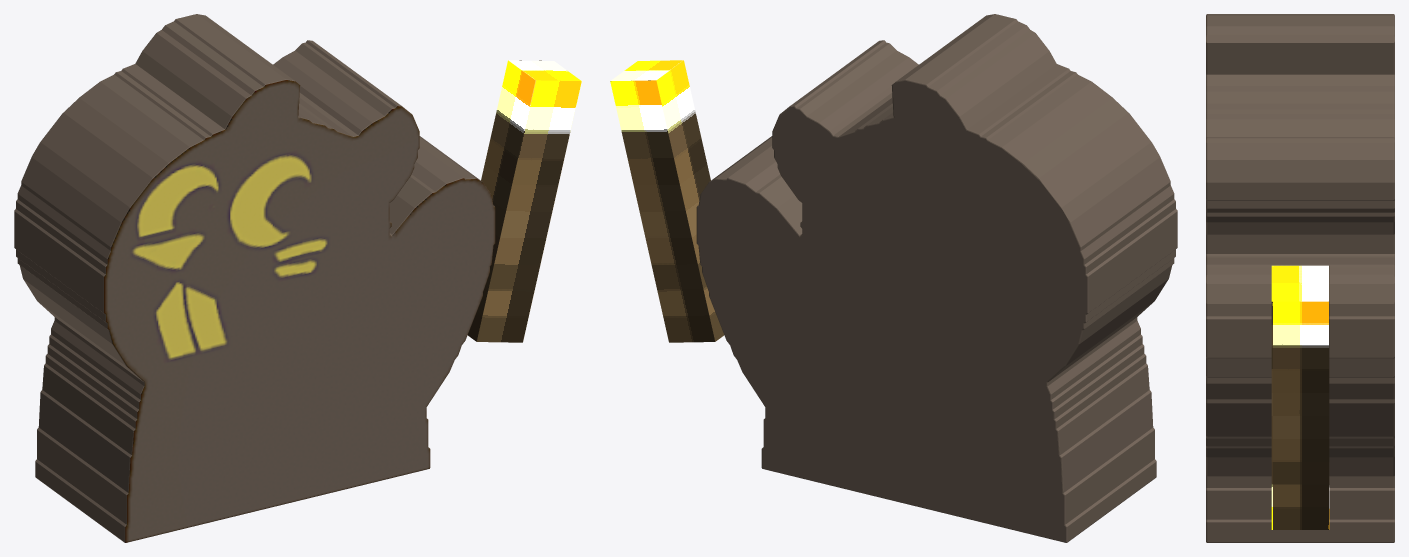
File: vagabond-pawn-tinker.glb
3 renders of one model, left to right at view 1: azimuth 30°, elevation 25°; view 2: azimuth 150°, elevation 25°; view 3: azimuth 270°, elevation 25°, orthographic. The views are drawn at different scales.
Visible parts, largest first — view 1: vagabond-pawn-tinker.001, vagabond-pawn-tinker_torch; view 2: vagabond-pawn-tinker.001, vagabond-pawn-tinker_torch; view 3: vagabond-pawn-tinker.001, vagabond-pawn-tinker_torch.
Part boxes in pixels (box(x1,y1,x2,y2)): vagabond-pawn-tinker.001: box(14, 14, 495, 542); vagabond-pawn-tinker_torch: box(468, 60, 581, 342); vagabond-pawn-tinker.001: box(696, 14, 1177, 542); vagabond-pawn-tinker_torch: box(610, 60, 723, 342); vagabond-pawn-tinker.001: box(1206, 14, 1394, 542); vagabond-pawn-tinker_torch: box(1271, 265, 1329, 529).
Size of the model in its own units: 0.9413 by 0.75 by 0.2891.
3 materials, 2 textured.
